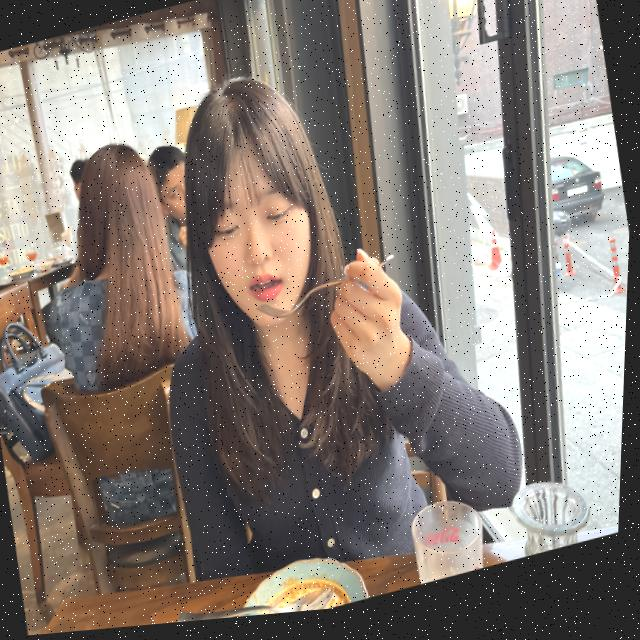eating-person: (105, 4, 559, 631)
